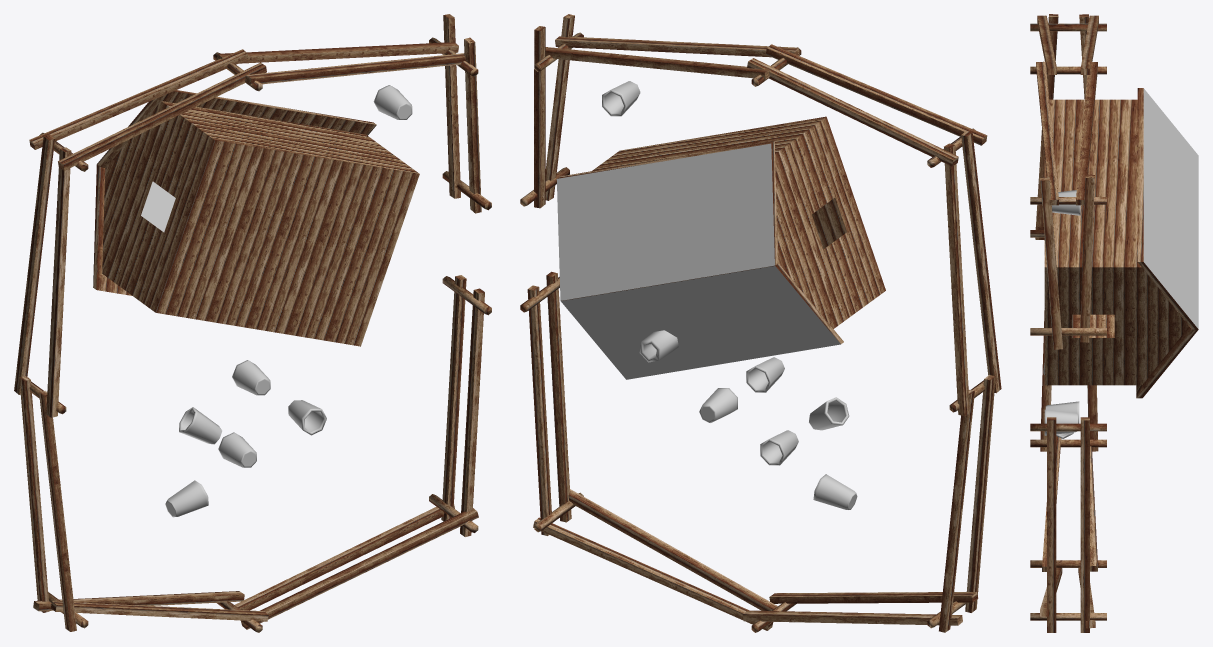
File: farm.fbx
3 renders of one model, left to right at view 1: azimuth 30°, elevation 25°; view 2: azimuth 150°, elevation 25°; view 3: azimuth 270°, elevation 25°, orthographic. The views are drawn at different scales.
Visible parts, largest first — view 1: Farm; view 2: Farm; view 3: Farm.
Boxes of the visible parts, box(x1,y1,x2,y2) form: Farm: box(14, 14, 491, 632); Farm: box(520, 14, 1001, 632); Farm: box(1030, 14, 1198, 632).
Bounding box in the file's own units: 19.64 × 23.91 × 7.13.
